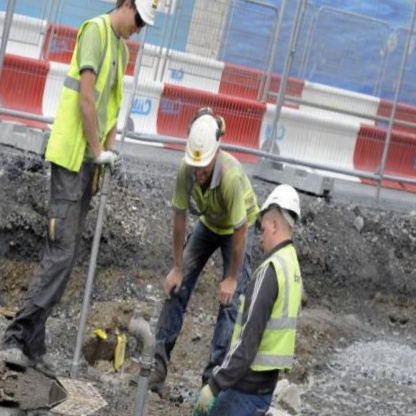vest: (37, 7, 144, 182), (221, 233, 318, 388), (162, 138, 270, 251)
white: (246, 177, 312, 236), (181, 111, 230, 172), (115, 0, 170, 32)
